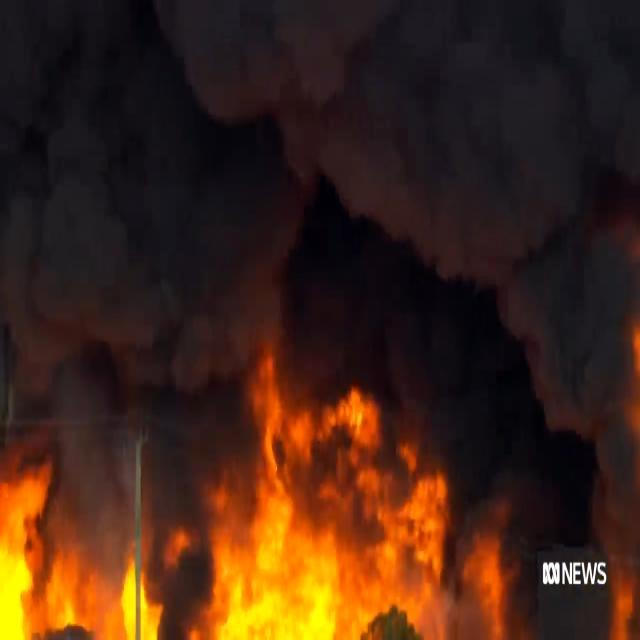fire: (221, 348, 524, 640), (0, 482, 40, 636)
